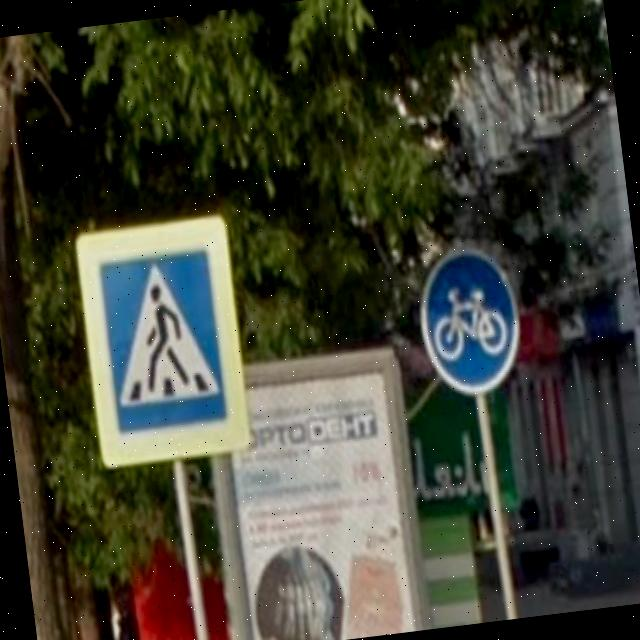Przejscie dla pieszych: (73, 212, 254, 468)
